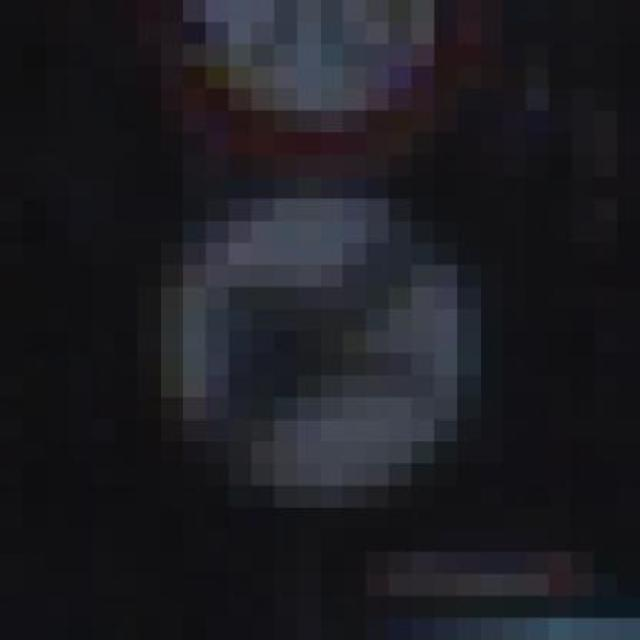Overtaking by trucks is prohibited: (114, 155, 526, 530)
